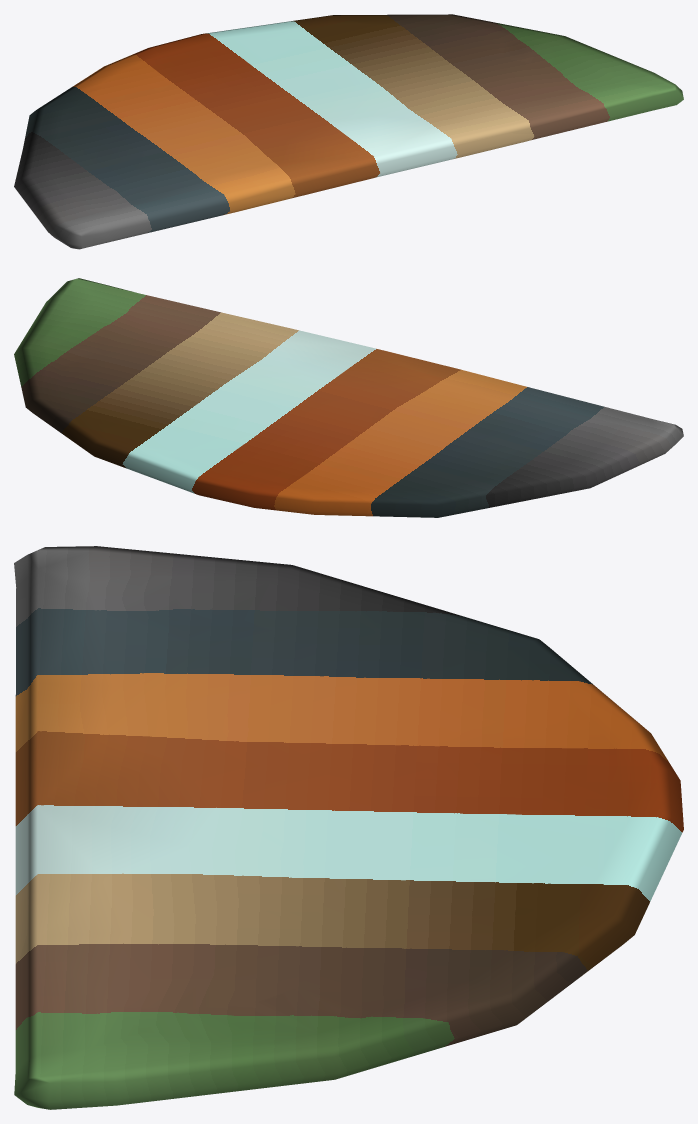
The model's file is P_SunflowerRugHalfCircle.glb.
3 views of the same model, one above another, from view 1: azimuth 30°, elevation 25°; view 2: azimuth 150°, elevation 25°; view 3: azimuth 270°, elevation 25° (orthographic). The views are drawn at different scales.
Parts seen in each view (by area): view 1: P_SunflowerRugHalfCircle; view 2: P_SunflowerRugHalfCircle; view 3: P_SunflowerRugHalfCircle.
Boxes of the visible parts, x1,y1,x2,y2 form: P_SunflowerRugHalfCircle: [14, 14, 683, 249]; P_SunflowerRugHalfCircle: [14, 278, 683, 517]; P_SunflowerRugHalfCircle: [14, 546, 683, 1109].
Size of the model in its own units: 1.57 by 0.0528 by 0.8097.
1 material, 1 textured.
